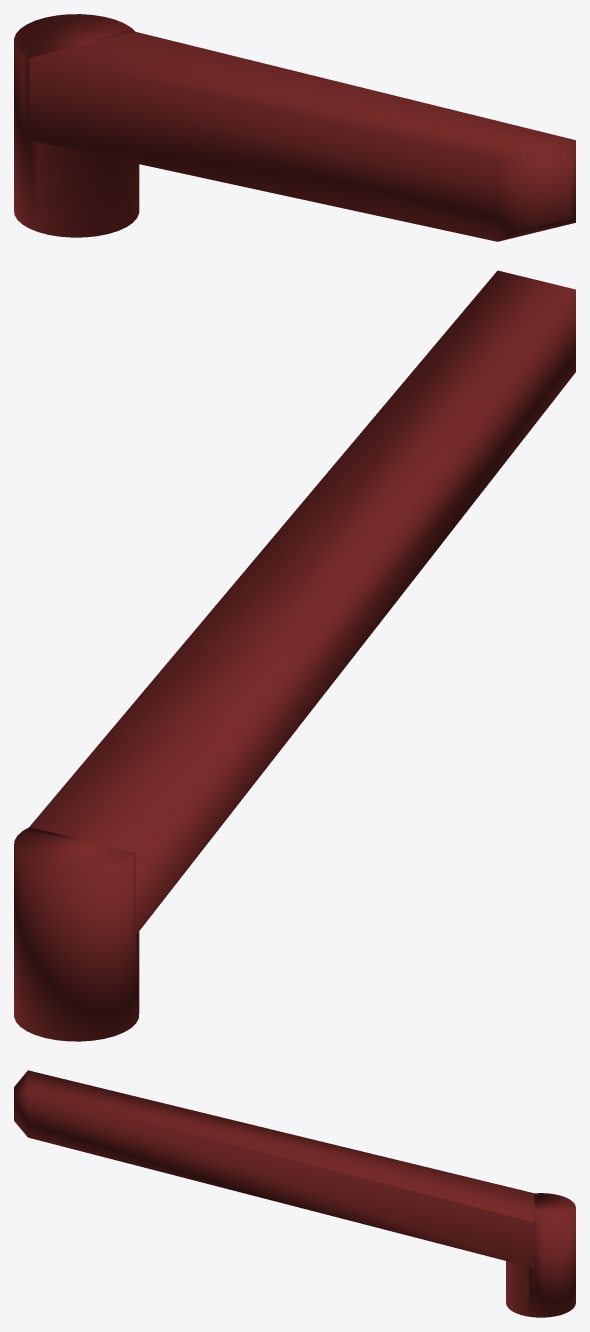
File: Handle2.fbx
The picture shows the model from 3 angles, top to bottom: view 1: azimuth 30°, elevation 25°; view 2: azimuth 150°, elevation 25°; view 3: azimuth 270°, elevation 25°; orthographic projection. The views are drawn at different scales.
Parts seen in each view (by area): view 1: Handle2_LP; view 2: Handle2_LP; view 3: Handle2_LP.
Part boxes in pixels (x1=…): Handle2_LP: x1=14, y1=14, x2=575, y2=241; Handle2_LP: x1=14, y1=270, x2=575, y2=1041; Handle2_LP: x1=14, y1=1070, x2=575, y2=1317.
Bounding box in the file's own units: 1.87 × 15.07 × 6.57.
